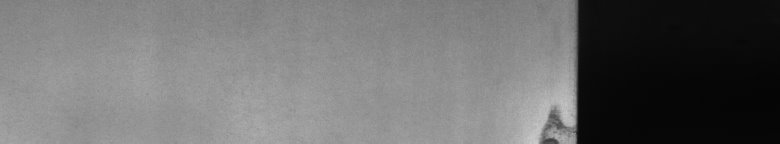hb: (534, 100, 568, 136)
